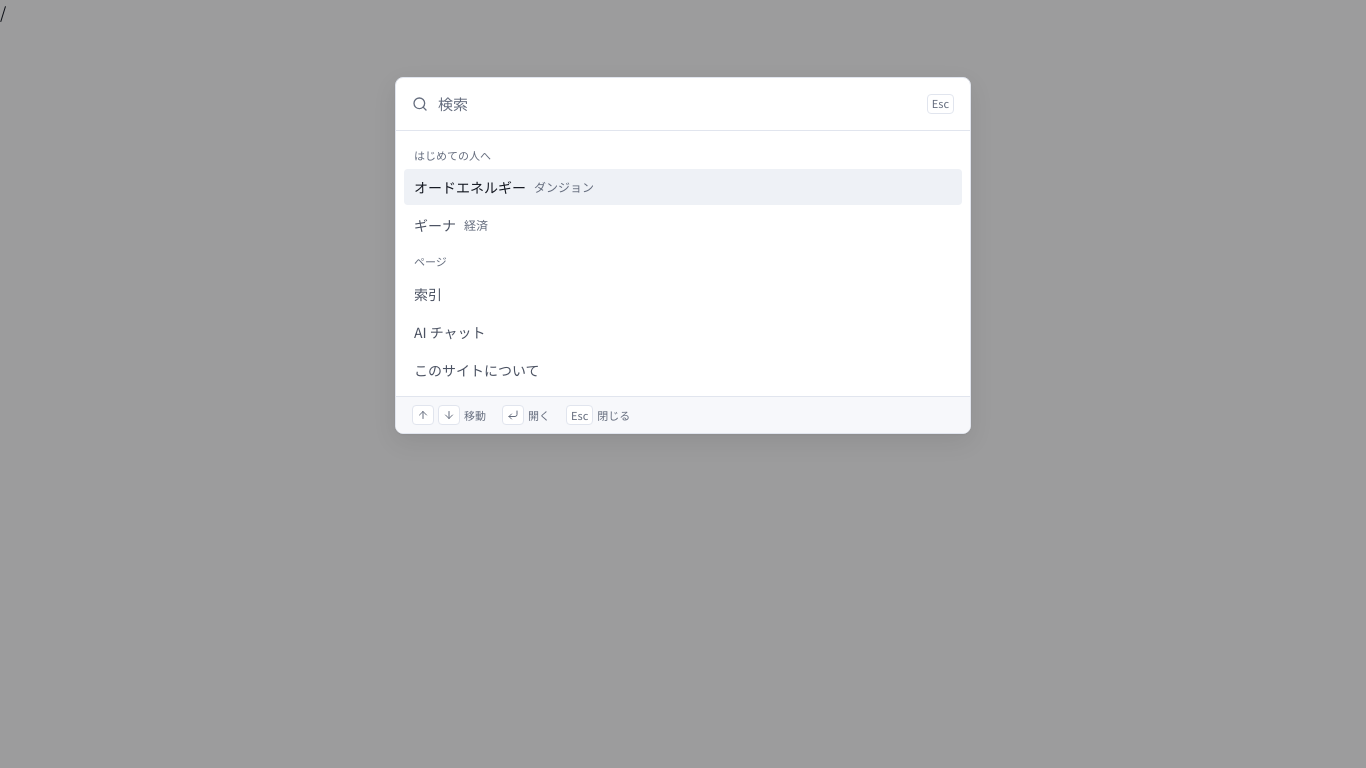
Scenario: CommandPalette › searches as you type with highlighted matches
Type "ギーナ" into the dropdown at (677, 104), box top-left (438, 78), bottom-right (917, 130)
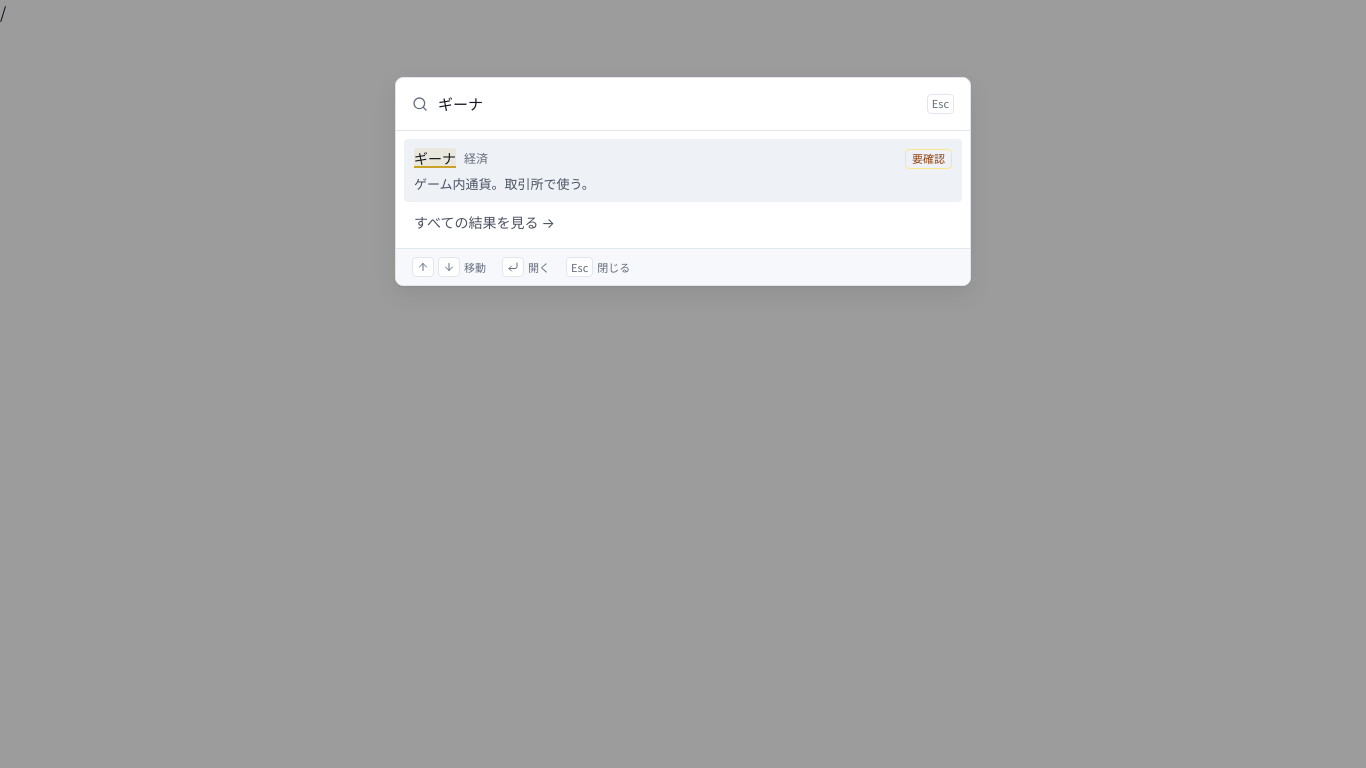
Expected: the text "ギーナ" is shown, top-left (414, 148), bottom-right (456, 168)
Now the option "ギーナ 経済 要確認 ゲーム内通貨。取引所で使う。" is shown, box top-left (404, 139), bottom-right (962, 202)
